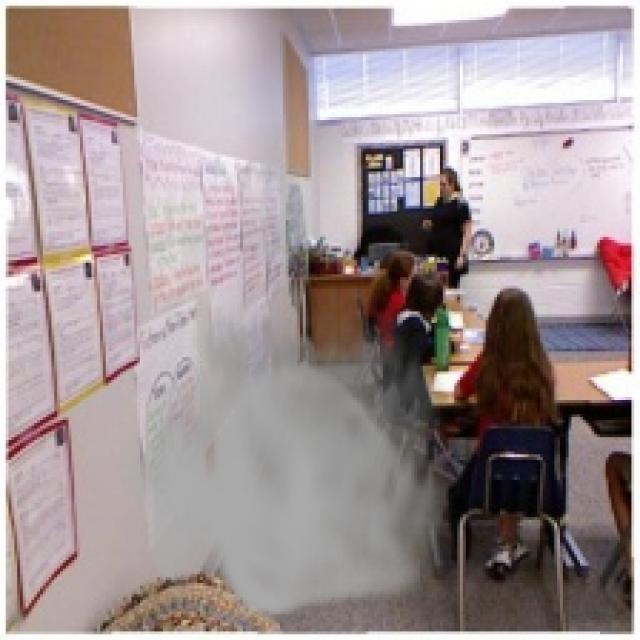Smoke: (117, 272, 466, 622)
